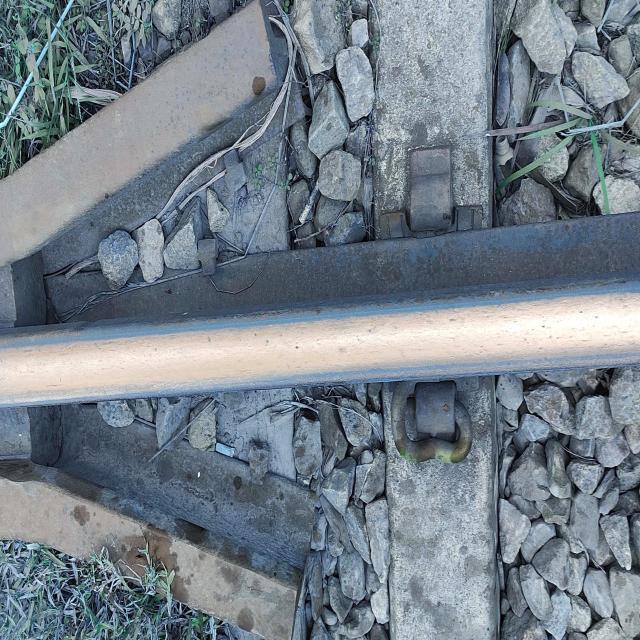Good Fasteners: (393, 370, 498, 486)
Missing Fastener: (402, 128, 468, 262)
